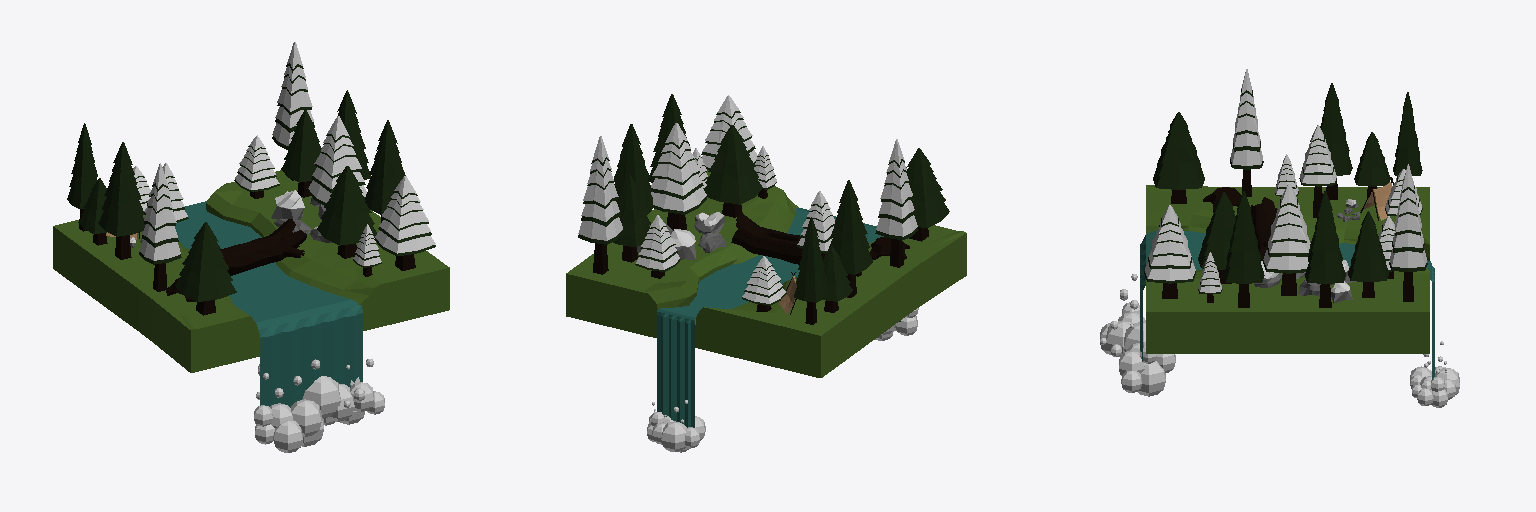
The model's file is forest2.obj.
3 views of the same model, side by side, from view 1: azimuth 30°, elevation 25°; view 2: azimuth 150°, elevation 25°; view 3: azimuth 270°, elevation 25° (orthographic).
Parts seen in each view (by area): view 1: pPlane1, pPlane4, polySurface7, pCube25, pCube40, pCube45, pCube20, pCube41, pCube22, pPipe1, pCube23, pCube26 (+7 smaller); view 2: pPlane1, pPlane4, pCube22, pCube23, pCube20, pCube41, pCube45, pCube40, pCube42, pPipe1, pCube21, pSphere69 (+9 smaller); view 3: pPlane1, polySurface7, pCube22, pCube25, pCube23, pCube40, pCube27, pCube26, pCube41, pCube21, pSphere69, pPlane4 (+10 smaller).
Boxes of the visible parts, box(x1,y1,x2,y2) form: pPlane1: box(53, 170, 449, 372); pPlane4: box(175, 201, 362, 407); polySurface7: box(254, 359, 384, 452); pCube25: box(374, 176, 435, 270); pCube40: box(175, 222, 236, 315); pCube45: box(98, 142, 145, 259); pCube20: box(317, 166, 376, 258); pCube41: box(139, 163, 181, 291); pCube22: box(307, 116, 366, 205); pPipe1: box(220, 219, 306, 275); pCube23: box(272, 42, 314, 180); pCube26: box(365, 120, 405, 222); pPlane1: box(566, 170, 966, 377); pPlane4: box(657, 208, 900, 427); pCube22: box(651, 123, 706, 230); pCube23: box(578, 136, 623, 274); pCube20: box(704, 125, 762, 217); pCube41: box(875, 139, 917, 267); pCube45: box(828, 180, 872, 297); pCube40: box(906, 148, 949, 241); pCube42: box(794, 217, 828, 324); pPipe1: box(731, 213, 825, 264); pCube21: box(613, 175, 650, 262); pSphere69: box(647, 400, 705, 452); pPlane1: box(1146, 185, 1429, 353); polySurface7: box(1100, 274, 1175, 396); pCube22: box(1263, 183, 1310, 295); pCube25: box(1144, 205, 1195, 298); pCube23: box(1389, 164, 1427, 301); pCube40: box(1153, 112, 1204, 203); pCube27: box(1305, 191, 1345, 307); pCube26: box(1223, 191, 1264, 307); pCube41: box(1230, 69, 1263, 196); pCube21: box(1348, 211, 1388, 297); pSphere69: box(1410, 341, 1459, 407); pPlane4: box(1140, 230, 1434, 379).
Bounding box in the file's own units: 7.54 × 7.74 × 8.91.